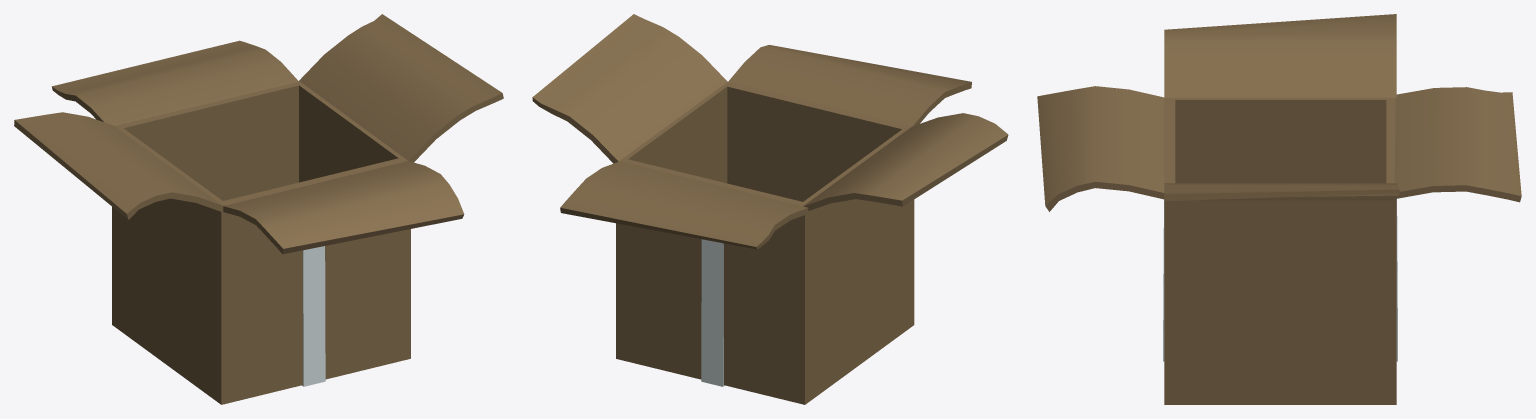
The model's file is cardboardBoxOpen.fbx.
3 renders of one model, left to right at view 1: azimuth 30°, elevation 25°; view 2: azimuth 150°, elevation 25°; view 3: azimuth 270°, elevation 25°, orthographic. The views are drawn at different scales.
Parts seen in each view (by area): view 1: box1, flap03, flap06, flap05, flap04; view 2: box1, flap03, flap05, flap06, flap04; view 3: box1, flap04, flap06, flap05, flap03.
Part boxes in pixels (bbox=[...]): box1: bbox=[112, 81, 410, 404]; flap03: bbox=[299, 14, 503, 162]; flap06: bbox=[223, 161, 464, 254]; flap05: bbox=[51, 40, 298, 125]; flap04: bbox=[14, 112, 223, 219]; box1: bbox=[616, 82, 914, 404]; flap03: bbox=[532, 14, 727, 163]; flap05: bbox=[560, 161, 808, 249]; flap06: bbox=[728, 45, 971, 126]; flap04: bbox=[803, 113, 1008, 210]; box1: bbox=[1163, 97, 1397, 404]; flap04: bbox=[1164, 14, 1396, 97]; flap06: bbox=[1037, 86, 1164, 211]; flap05: bbox=[1394, 87, 1521, 202]; flap03: bbox=[1164, 183, 1399, 201].
Size of the model in its own units: 2.01 by 1.23 by 2.09.
